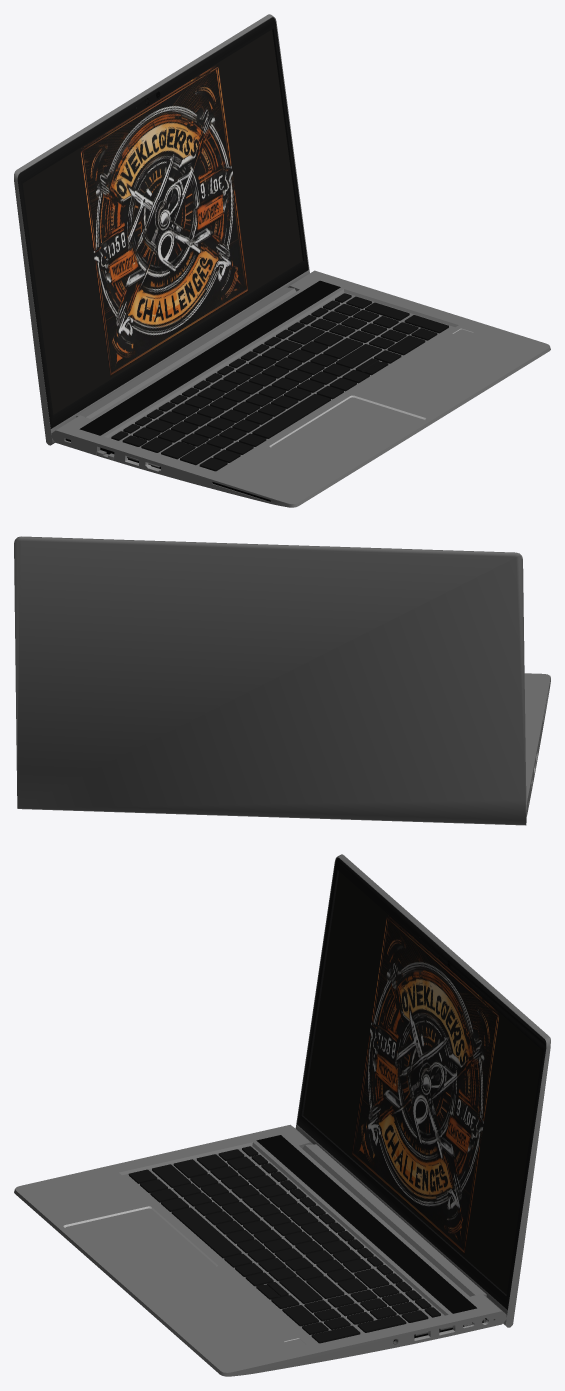
Rendered from Laptop.fbx.
3 views of the same model, one above another, from view 1: azimuth 30°, elevation 25°; view 2: azimuth 150°, elevation 25°; view 3: azimuth 270°, elevation 25° (orthographic). The views are drawn at different scales.
Parts seen in each view (by area): view 1: lid, body; view 2: lid, body; view 3: lid, body.
Part boxes in pixels (x1,y1,x2,y2): lid: [14, 14, 309, 445]; body: [51, 270, 550, 507]; lid: [14, 536, 526, 825]; body: [524, 673, 550, 816]; lid: [295, 854, 550, 1327]; body: [14, 1124, 506, 1376].
Bounding box in the file's own units: 112 × 58.95 × 101.
Materials: 14 (2 with a texture image).
